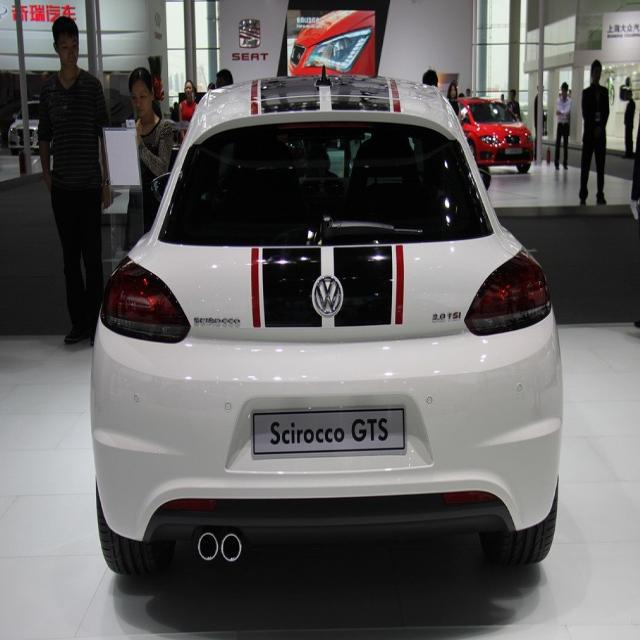back_glass: (156, 122, 496, 250)
back_left_side_light: (100, 248, 193, 348)
back_right_side_light: (462, 244, 552, 338)
rear_bumper: (90, 318, 562, 548)
